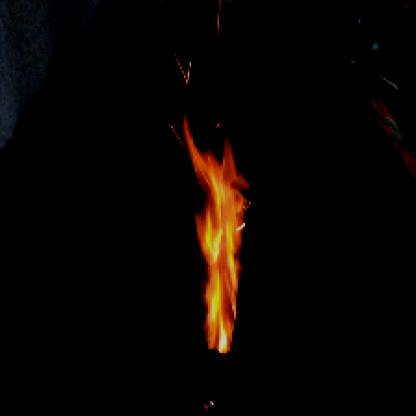Fire: (180, 108, 253, 356)
